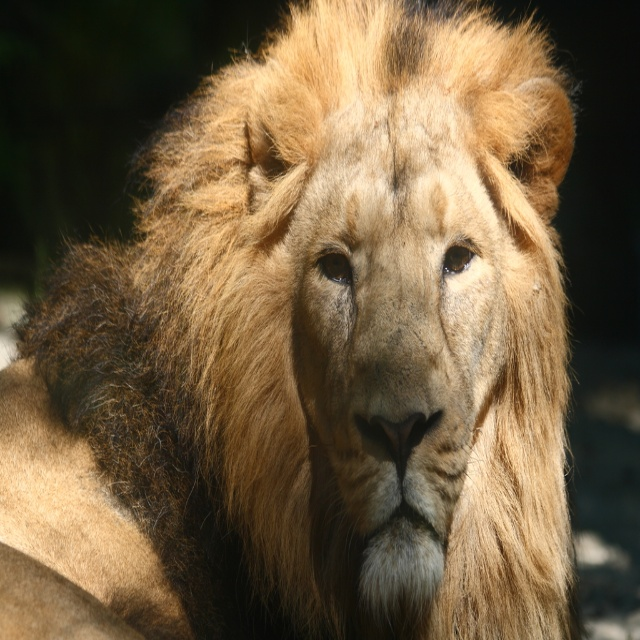Lion: (0, 0, 579, 640)
